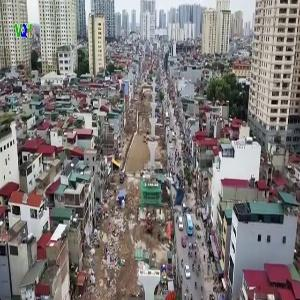drone: (158, 177, 195, 214)
